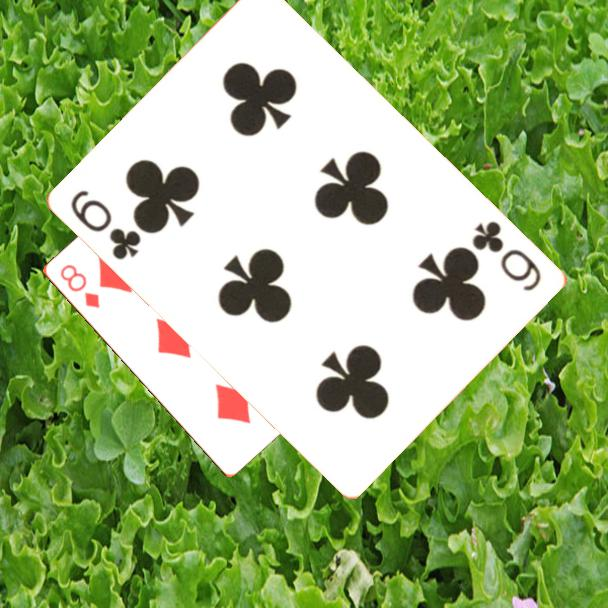c06: (68, 186, 145, 263), (469, 217, 545, 295)
d08: (56, 261, 102, 311)
